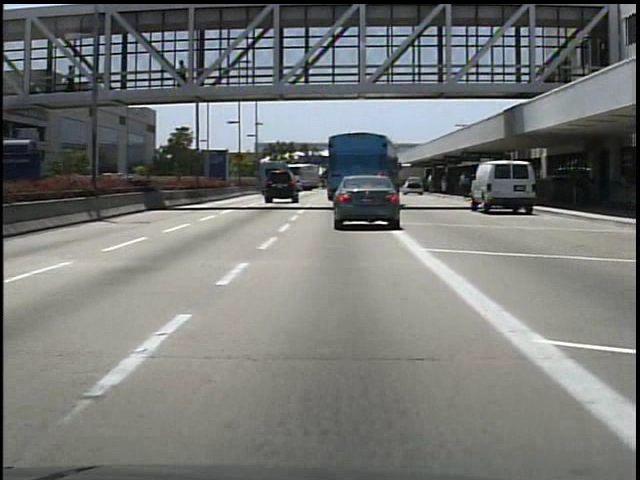person: (569, 166, 591, 209), (176, 57, 194, 97), (66, 61, 83, 93), (459, 169, 473, 198)
